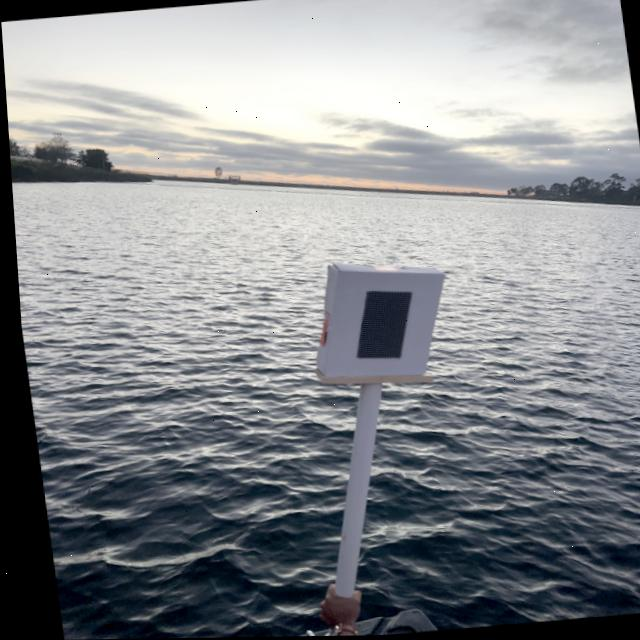led: (326, 274, 420, 379)
